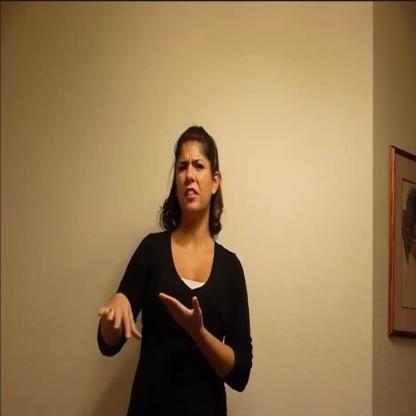Expensive: (79, 249, 209, 370)
